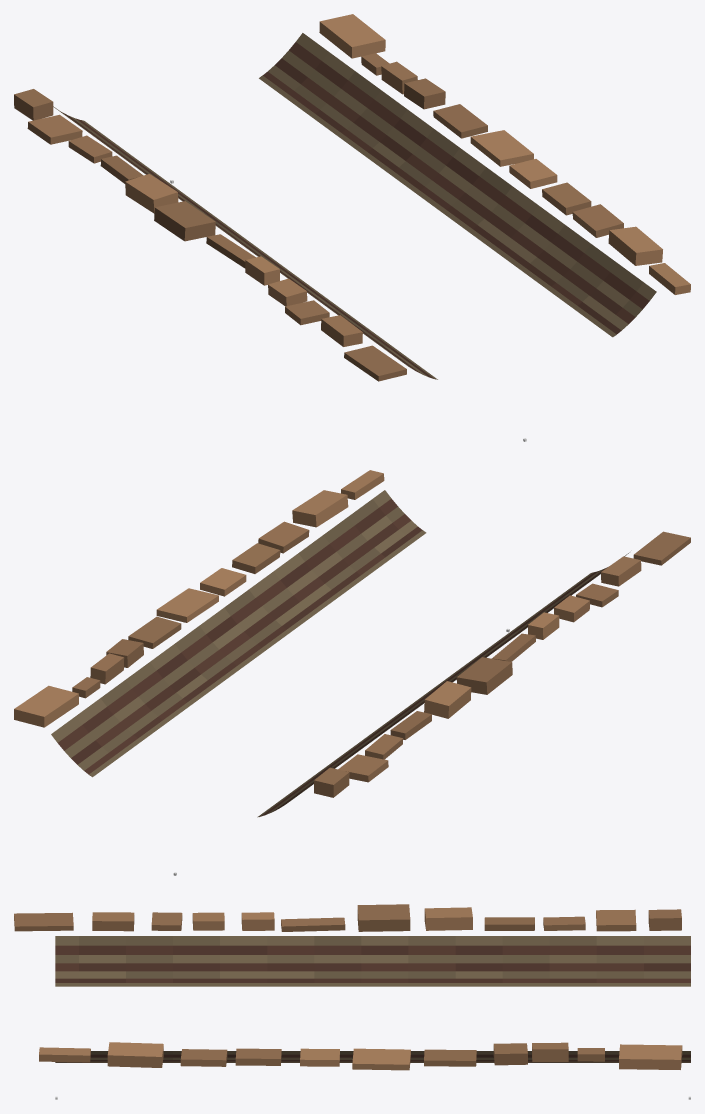
File: drift_wash.glb
3 renders of one model, top to bottom at view 1: azimuth 30°, elevation 25°; view 2: azimuth 150°, elevation 25°; view 3: azimuth 270°, elevation 25°, orthographic. The views are drawn at different scales.
Visible parts, largest first — view 1: drift_wash; view 2: drift_wash; view 3: drift_wash.
Boxes of the visible parts, left/top/right/bottom form: drift_wash: left=14, top=14, right=690, bottom=381; drift_wash: left=14, top=470, right=690, bottom=817; drift_wash: left=14, top=904, right=690, bottom=1070.
Bounding box in the file's own units: 30.87 × 11.17 × 57.51.
